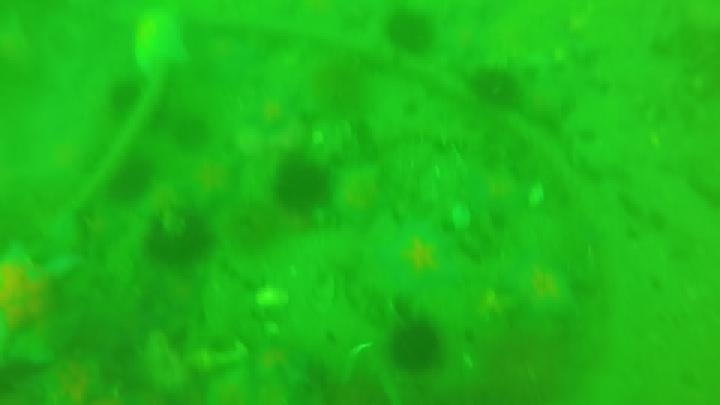echinus: (384, 219, 469, 298), (515, 259, 580, 325), (274, 158, 341, 219), (146, 215, 213, 267), (394, 321, 443, 374), (465, 65, 526, 105), (386, 10, 431, 54), (110, 161, 151, 198), (165, 121, 207, 153), (110, 79, 142, 115)
scallop: (259, 288, 292, 310)
starfish: (1, 242, 48, 340)
